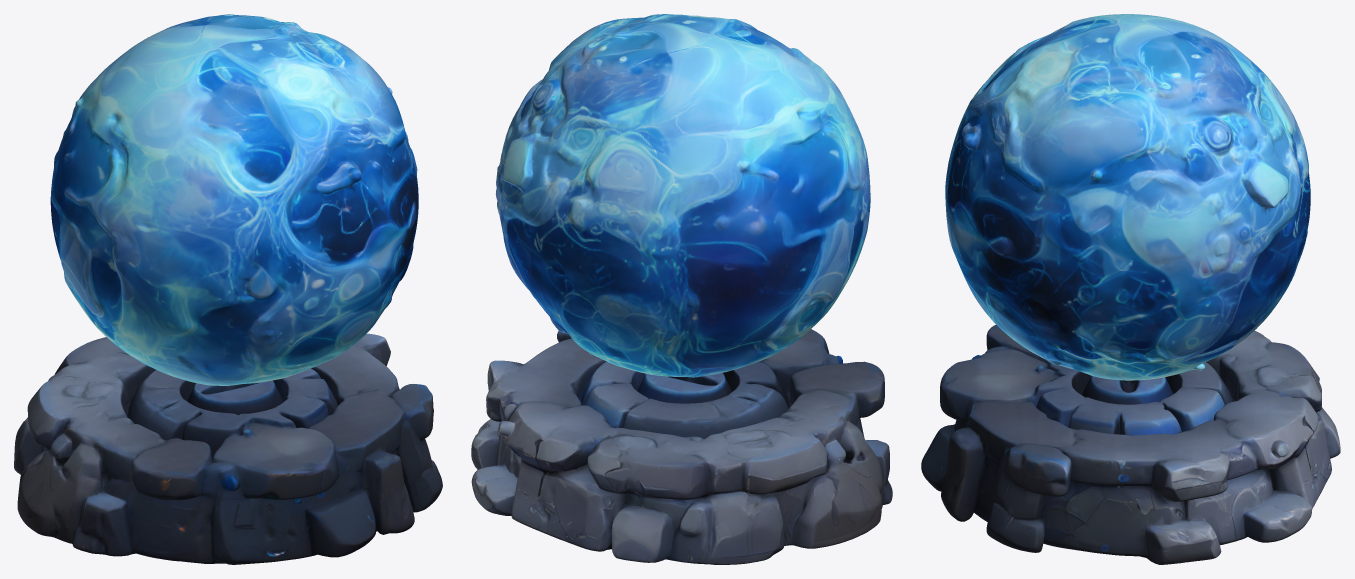
Rendered from prop-soul-orb.glb.
3 views of the same model, side by side, from view 1: azimuth 30°, elevation 25°; view 2: azimuth 150°, elevation 25°; view 3: azimuth 270°, elevation 25° (orthographic).
Visible parts, largest first — view 1: tripo_node_7bf6421e-9205-467d-afe8-3cf6e50a27c1; view 2: tripo_node_7bf6421e-9205-467d-afe8-3cf6e50a27c1; view 3: tripo_node_7bf6421e-9205-467d-afe8-3cf6e50a27c1.
Part boxes in pixels (bbox=[...]): tripo_node_7bf6421e-9205-467d-afe8-3cf6e50a27c1: bbox=[14, 14, 442, 564]; tripo_node_7bf6421e-9205-467d-afe8-3cf6e50a27c1: bbox=[471, 14, 892, 564]; tripo_node_7bf6421e-9205-467d-afe8-3cf6e50a27c1: bbox=[921, 14, 1340, 564].
Size of the model in its own units: 1.33 by 1.5 by 1.27.
1 material, 1 textured.
